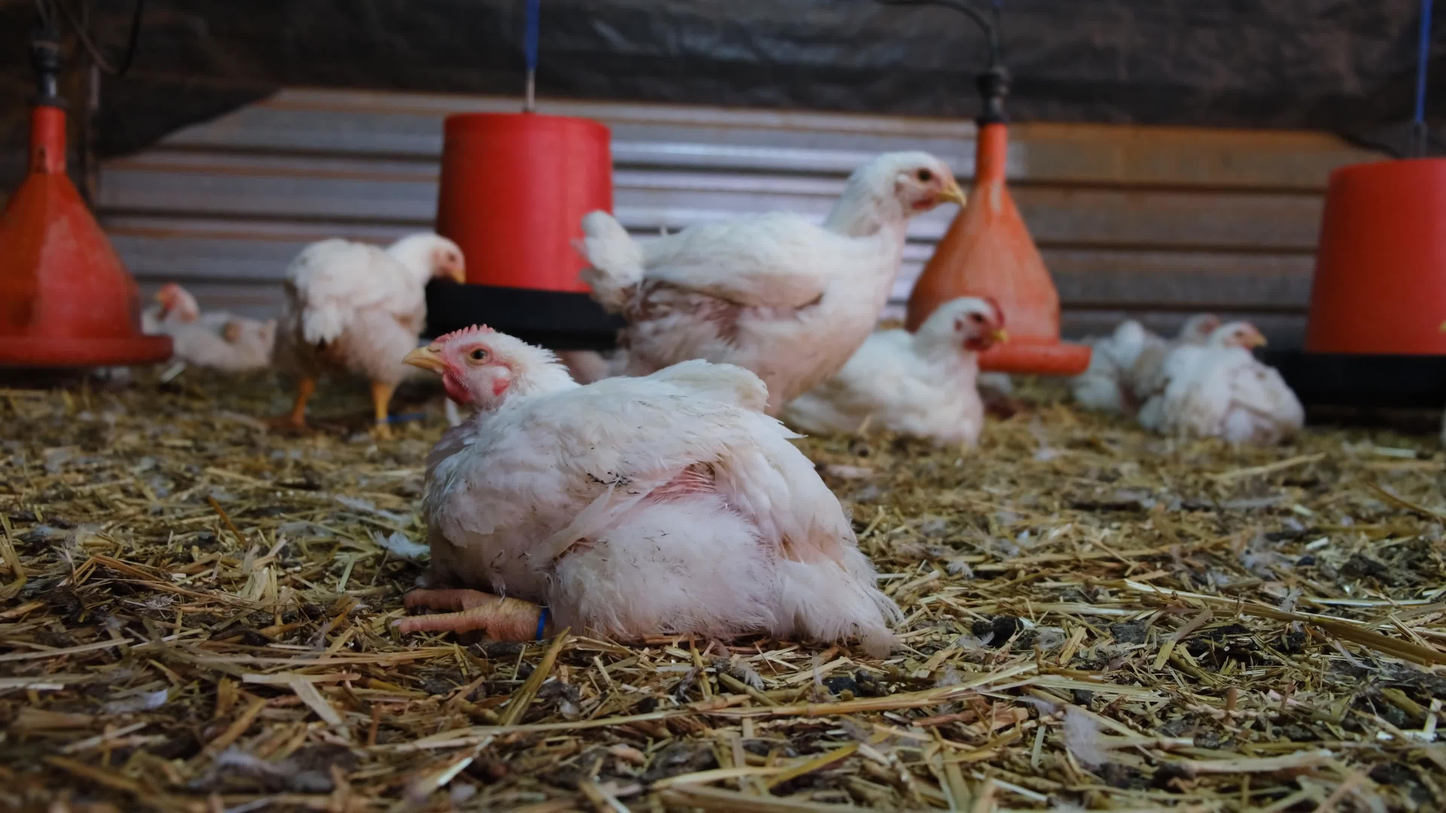AbNormal: (391, 326, 888, 646), (772, 294, 1010, 446), (1180, 318, 1307, 456), (132, 273, 281, 381), (1079, 315, 1173, 414), (1152, 309, 1224, 431)
Normal: (582, 153, 970, 410), (283, 234, 469, 447)
